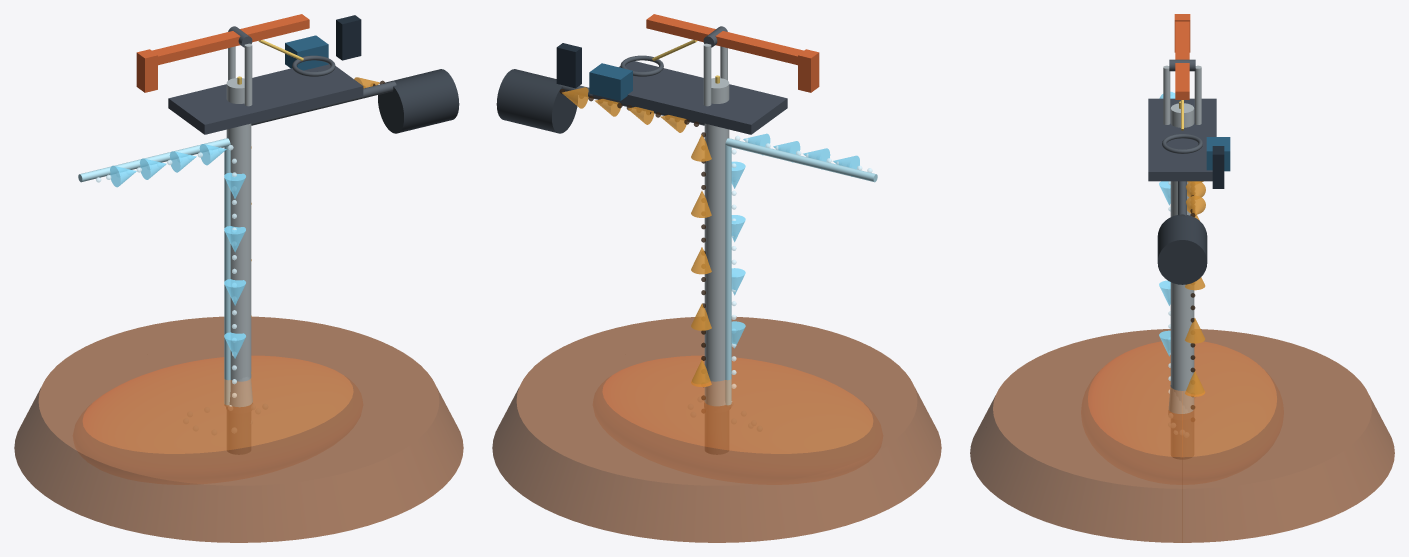
The model's file is well.glb.
3 renders of one model, left to right at view 1: azimuth 30°, elevation 25°; view 2: azimuth 150°, elevation 25°; view 3: azimuth 270°, elevation 25°, orthographic. The views are drawn at different scales.
Visible parts, largest first — view 1: Reservoir, HeatedReservoirRegion, SurfaceBase, Well, ProductionReceiver, WalkingBeam, SteamInjectorPipe, VFD, Motor, SteamInjectionSurfaceLine, HorseHead, SRPPump (+2 smaller); view 2: Reservoir, HeatedReservoirRegion, Well, SurfaceBase, ProductionReceiver, WalkingBeam, SteamInjectorPipe, SteamInjectionSurfaceLine, Motor, VFD, HorseHead, SurfaceUnitPostA; view 3: Reservoir, HeatedReservoirRegion, SurfaceBase, Well, ProductionReceiver, WalkingBeam, Motor, VFD.
Boxes of the visible parts, <box> form: Reservoir: <box>14,316,463,542</box>; HeatedReservoirRegion: <box>82,356,353,453</box>; SurfaceBase: <box>168,64,363,134</box>; Well: <box>226,78,251,454</box>; ProductionReceiver: <box>378,69,459,133</box>; WalkingBeam: <box>152,14,309,65</box>; SteamInjectorPipe: <box>224,143,230,405</box>; VFD: <box>336,15,361,60</box>; Motor: <box>285,35,328,70</box>; SteamInjectionSurfaceLine: <box>78,138,230,182</box>; HorseHead: <box>136,49,157,92</box>; SRPPump: <box>226,376,252,412</box>; Reservoir: <box>492,316,941,542</box>; HeatedReservoirRegion: <box>602,356,873,453</box>; Well: <box>704,78,729,454</box>; SurfaceBase: <box>592,61,787,134</box>; ProductionReceiver: <box>496,69,577,133</box>; WalkingBeam: <box>646,14,803,65</box>; SteamInjectorPipe: <box>725,143,731,406</box>; SteamInjectionSurfaceLine: <box>725,138,877,182</box>; Motor: <box>589,63,632,100</box>; VFD: <box>556,43,581,88</box>; HorseHead: <box>798,49,819,92</box>; SurfaceUnitPostA: <box>703,43,711,106</box>; Reservoir: <box>970,329,1394,542</box>; HeatedReservoirRegion: <box>1088,341,1276,457</box>; SurfaceBase: <box>1148,98,1216,181</box>; Well: <box>1170,103,1194,458</box>; ProductionReceiver: <box>1157,215,1207,284</box>; WalkingBeam: <box>1175,21,1189,99</box>; Motor: <box>1206,137,1230,171</box>; VFD: <box>1212,146,1224,188</box>.
Bounding box in the file's own units: 6.71 × 6.75 × 6.5.
